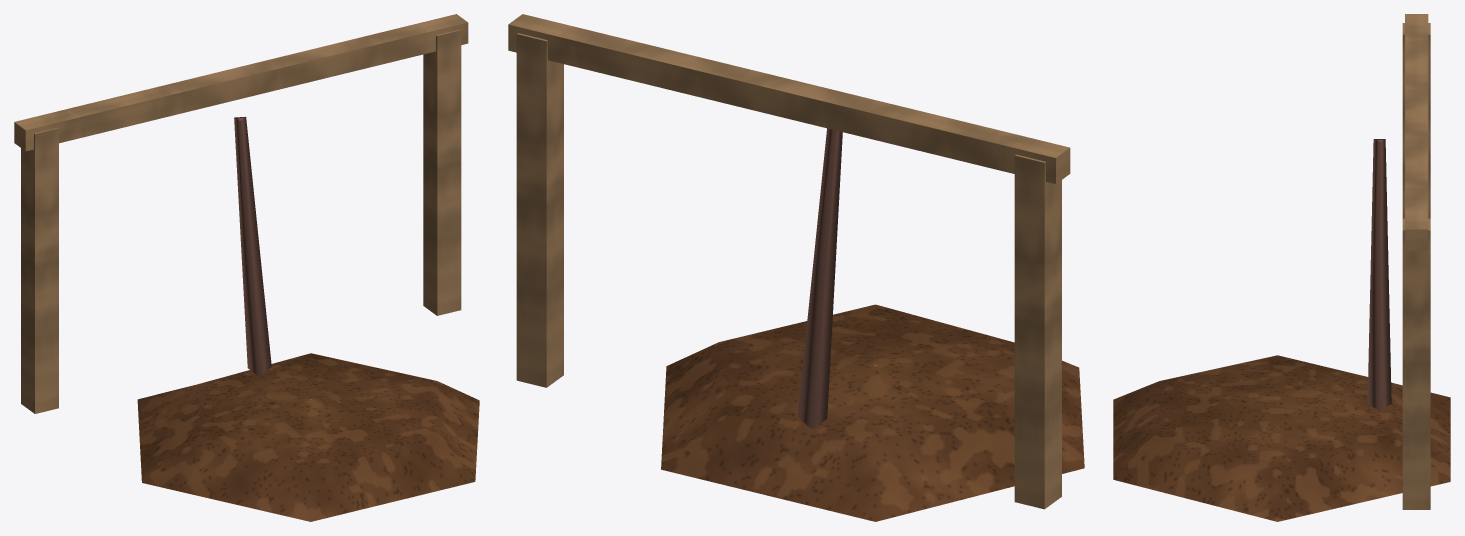
Rendered from plant-grape-1-far.glb.
3 views of the same model, side by side, from view 1: azimuth 30°, elevation 25°; view 2: azimuth 150°, elevation 25°; view 3: azimuth 270°, elevation 25° (orthographic). The views are drawn at different scales.
Visible parts, largest first — view 1: plant-grape-1-far; view 2: plant-grape-1-far; view 3: plant-grape-1-far.
Boxes of the visible parts, box(x1,y1,x2,y2) form: plant-grape-1-far: box(14, 14, 479, 521); plant-grape-1-far: box(508, 14, 1084, 521); plant-grape-1-far: box(1113, 14, 1450, 521).
Size of the model in its own units: 1.1 by 0.7567 by 0.7275.
Materials: 3 (2 with a texture image).
